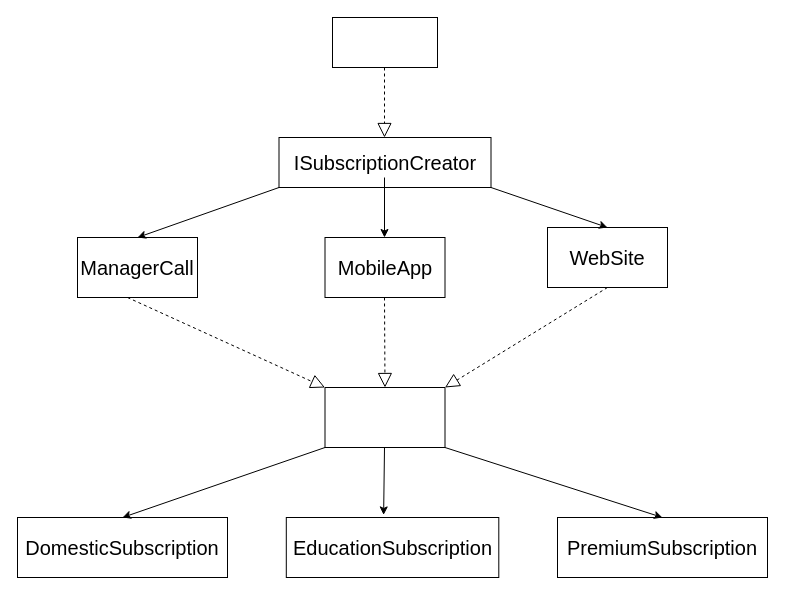
This 785x595 diagram has some shape labels left out. Each missing label, with the centre of its shape:
"Program" belongs at [385,42].
"Subscription" belongs at [384,417].
